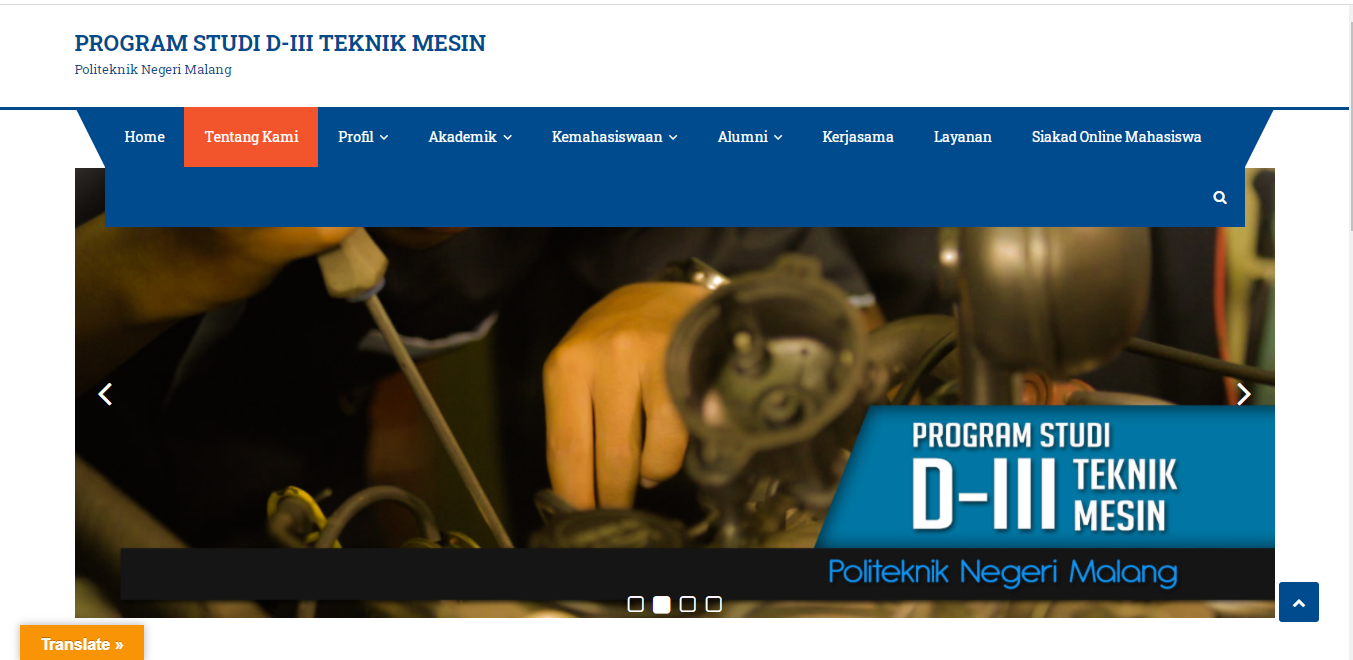Button: (15, 623, 146, 660), (1276, 575, 1323, 622)
Image: (74, 230, 1273, 617)
Menu Bar: (100, 109, 1265, 166)
